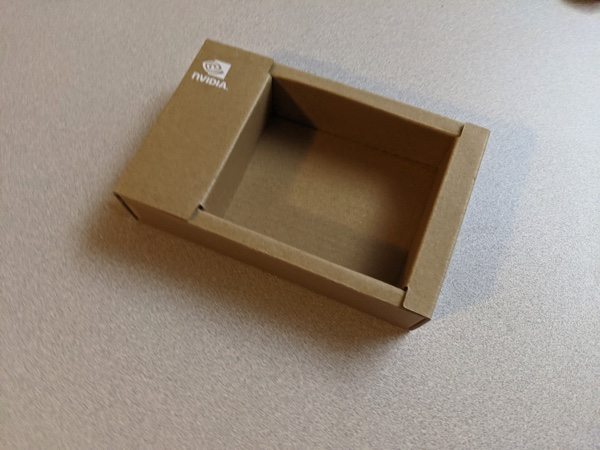cardboard: (108, 25, 507, 346)
